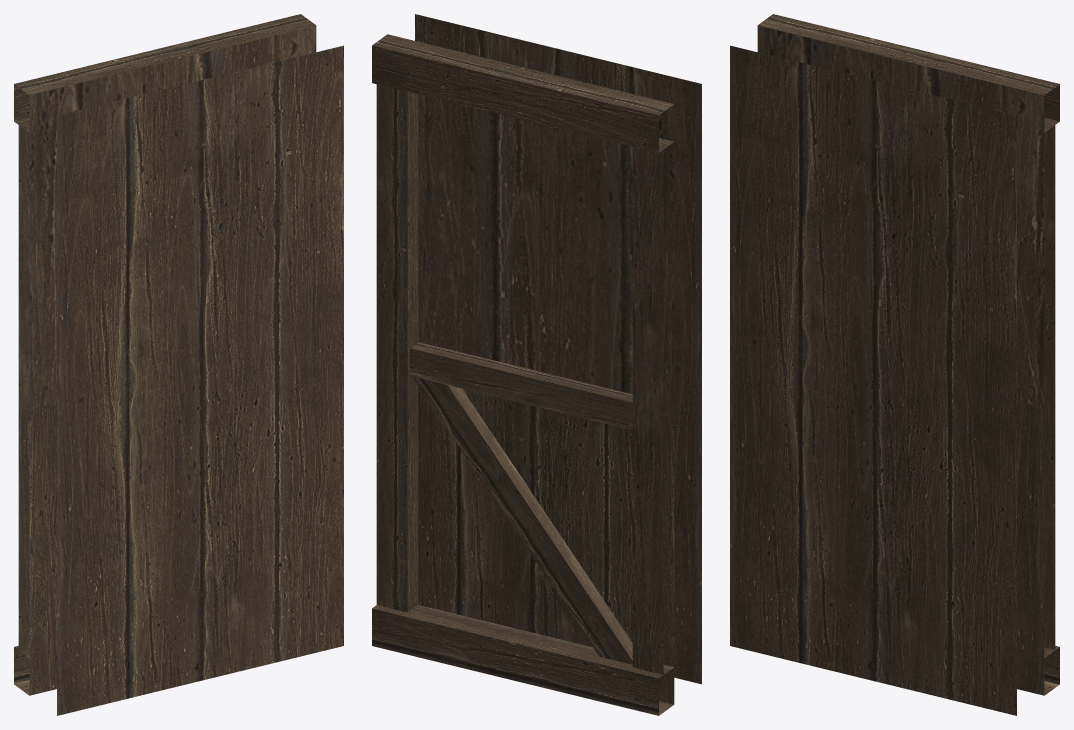
The model's file is ARC1010327.fbx.
The picture shows the model from 3 angles, left to right: view 1: azimuth 30°, elevation 25°; view 2: azimuth 150°, elevation 25°; view 3: azimuth 330°, elevation 25°; orthographic projection.
Parts seen in each view (by area): view 1: smARC1010327; view 2: smARC1010327; view 3: smARC1010327.
Boxes of the visible parts, left/top/right/bottom form: smARC1010327: left=14, top=14, right=343, bottom=715; smARC1010327: left=372, top=14, right=701, bottom=715; smARC1010327: left=730, top=14, right=1059, bottom=715.
Size of the model in its own units: 134 by 268 by 34.9.
1 material, 1 textured.
